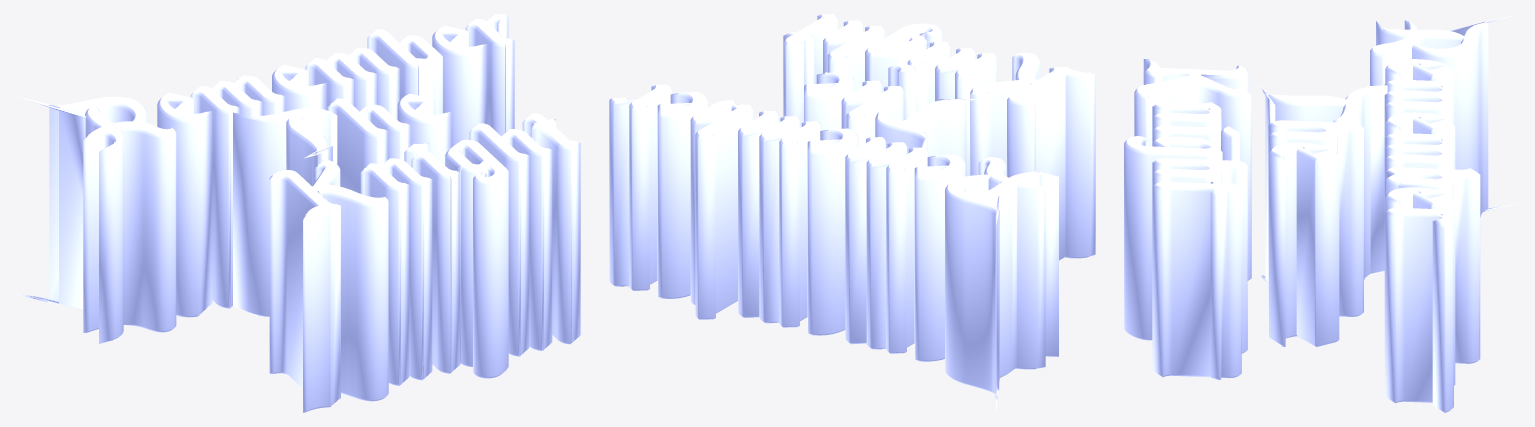
The model's file is RTK Thick.fbx.
The picture shows the model from 3 angles, left to right: view 1: azimuth 30°, elevation 25°; view 2: azimuth 150°, elevation 25°; view 3: azimuth 270°, elevation 25°; orthographic projection. The views are drawn at different scales.
Visible parts, largest first — view 1: Rememer The Knight; view 2: Rememer The Knight; view 3: Rememer The Knight.
Part boxes in pixels (x1,y1,x2,y2): Rememer The Knight: (15,14,580,412); Rememer The Knight: (609,14,1095,412); Rememer The Knight: (1124,14,1517,412).
Bounding box in the file's own units: 2185 × 910 × 1732.
